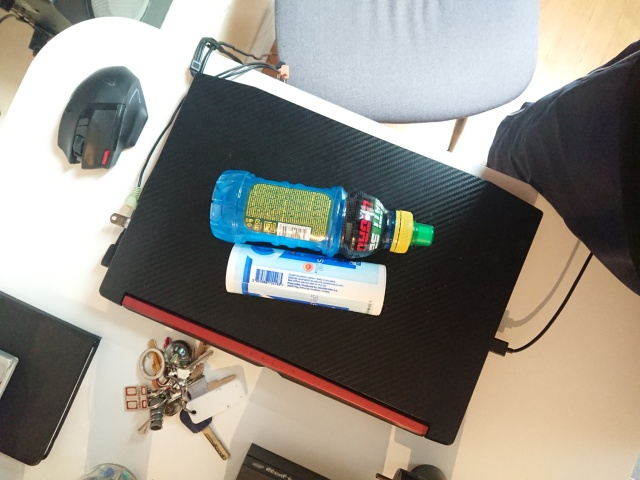Solana Pag Fine Sea Salt 250g: (223, 241, 388, 319)
Vindi Iso Sport Forest Strawberries 500mL: (207, 167, 437, 261)
